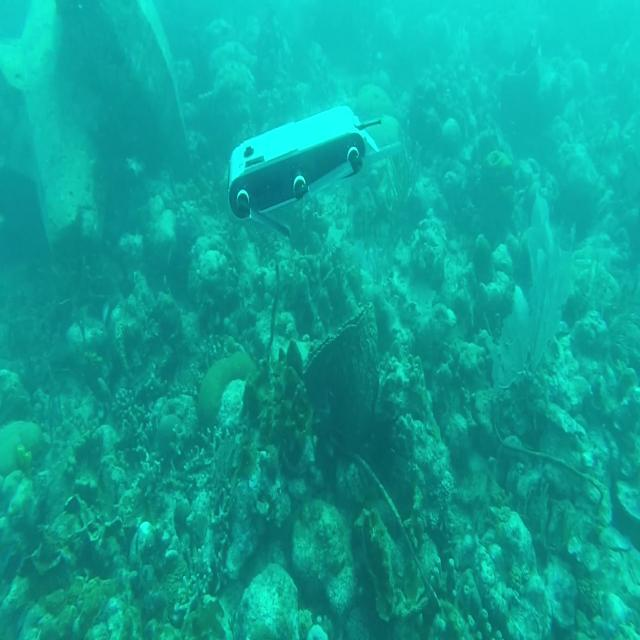human: (226, 103, 402, 238)
